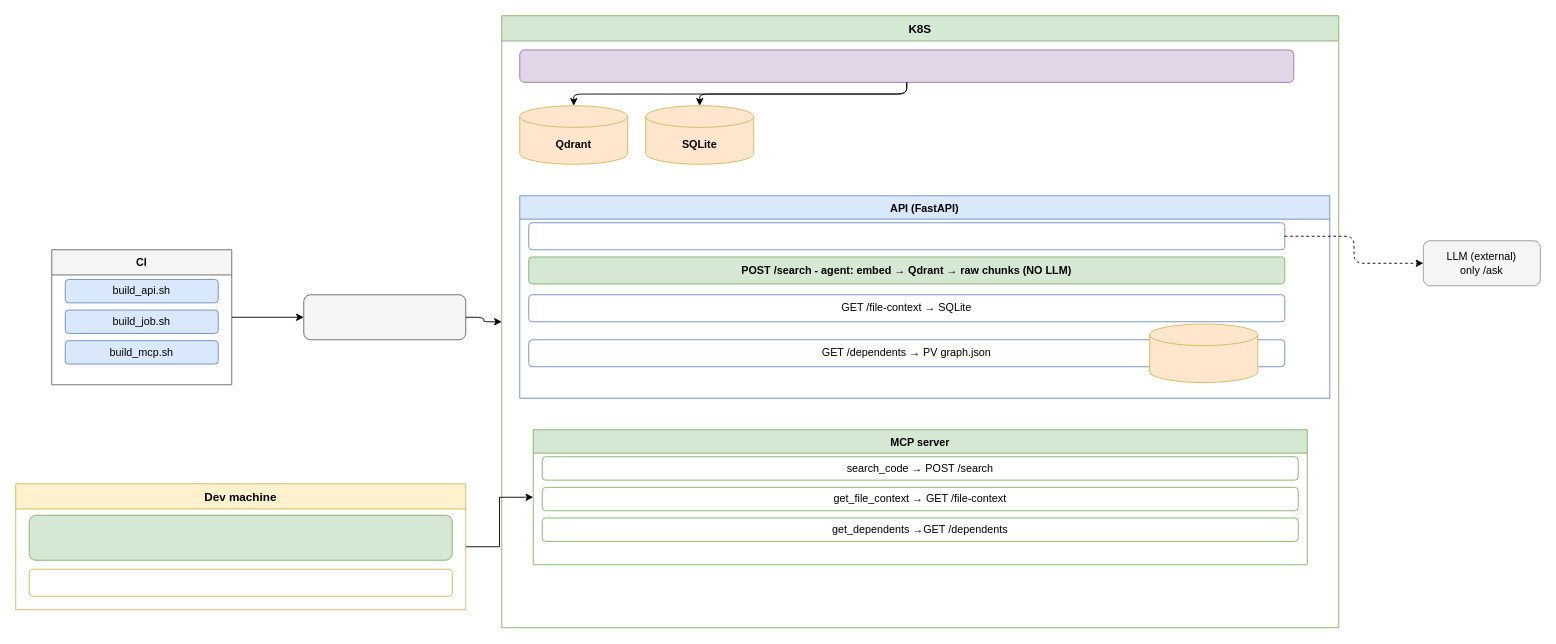
The diagram is 1556 pixels wide and 644 high, and some of its shapes have lost their labels. Each missing label, with the centre of its shape:
Agent code (vibe, geminicli, claude code, codex): (x=240, y=537)
Agent usage - check cost / token usage / pertinence response: (x=240, y=582)
Docker Hub Kalisio: (x=384, y=317)
ingestion job · git indexer · graph builder: (x=906, y=65)
POST /ask - human: embed → Qdrant → LLM → prose: (x=906, y=236)
PV graph.json: (x=1203, y=352)
